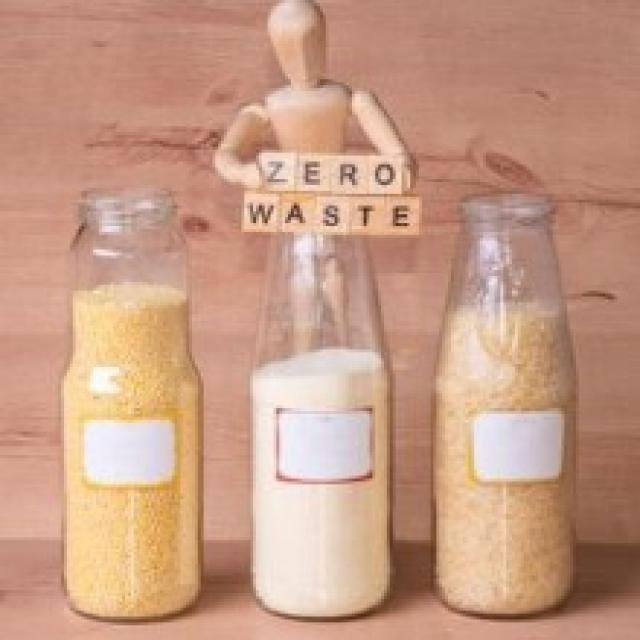electronic: (64, 186, 208, 623)
